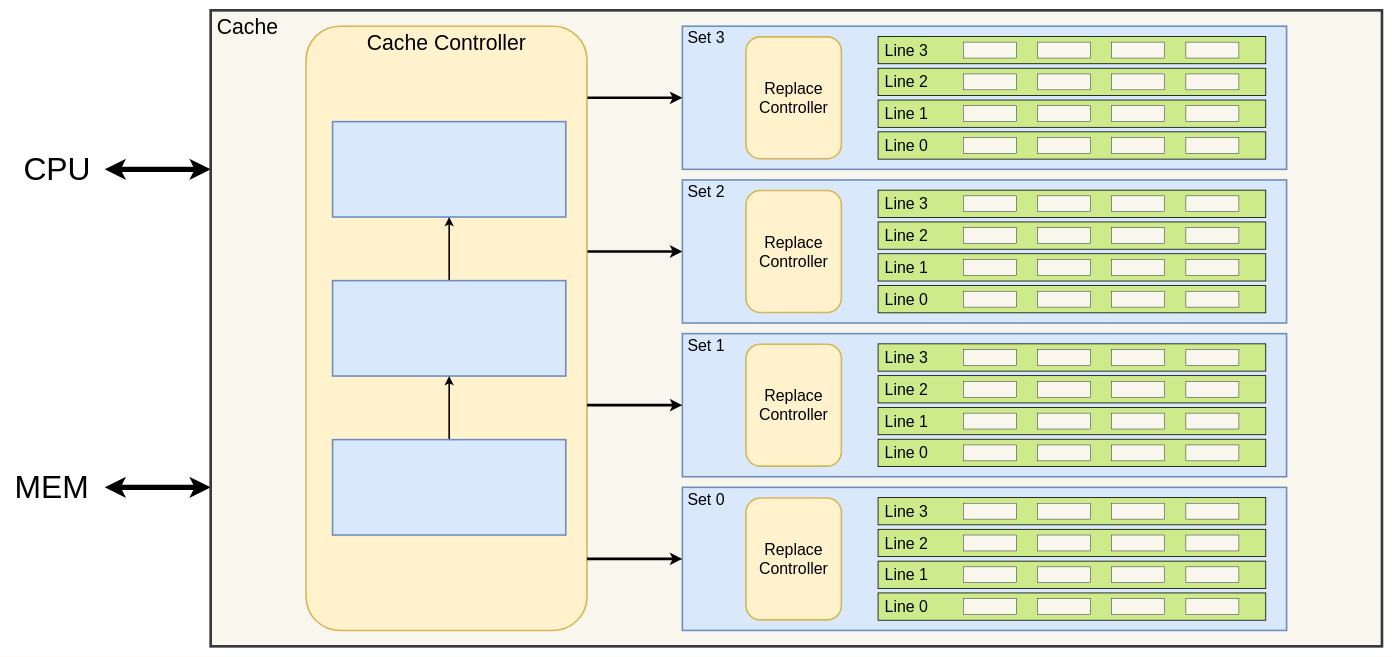
The diagram is 1392 pixels wide and 657 high, and some of its shapes have lost their labels. Here are the shapes that lost their labels. From the top down, the centre of each, then its label:
At (x=449, y=169): "Controller Logic".
At (x=449, y=328): "Finite State Machine".
At (x=449, y=487): "Counter".
